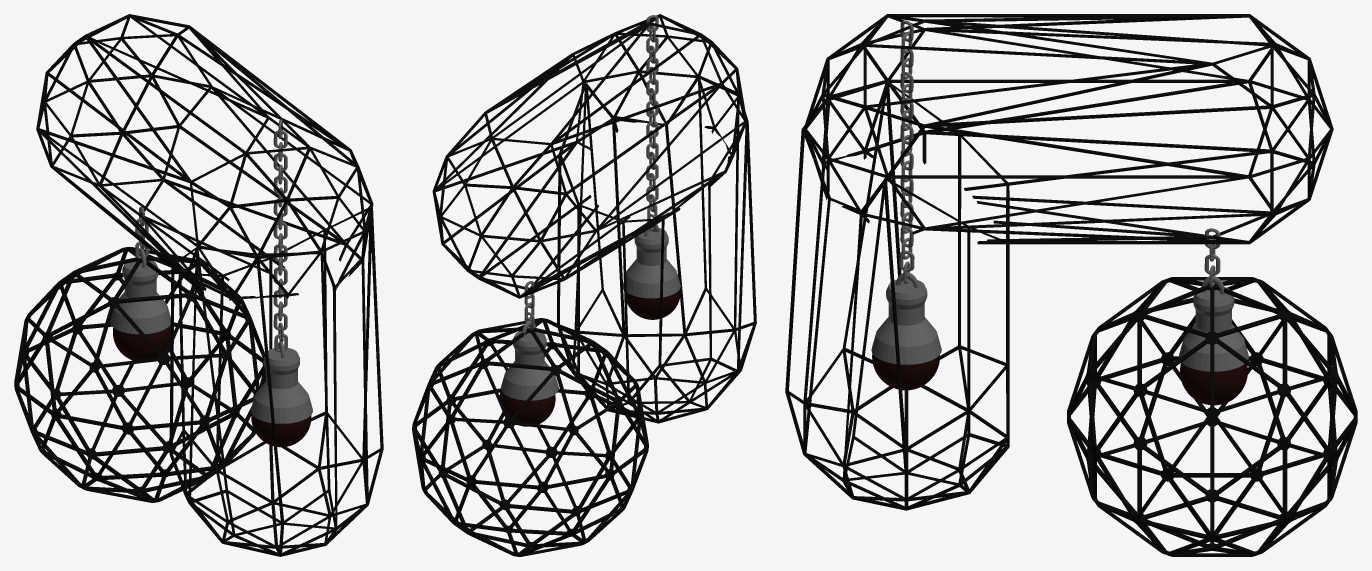
The model's file is lamp shed.obj.
3 views of the same model, side by side, from view 1: azimuth 30°, elevation 25°; view 2: azimuth 150°, elevation 25°; view 3: azimuth 270°, elevation 25° (orthographic). The views are drawn at different scales.
Parts seen in each view (by area): view 1: Icosphere.001, Icosphere, Icosphere.002, Cylinder.004, Cylinder.003, Torus.011, Sphere.003, Sphere.004; view 2: Icosphere, Icosphere.001, Icosphere.002, Cylinder.004, Cylinder.003, Torus.011, Sphere.003, Sphere.004; view 3: Icosphere.001, Icosphere, Icosphere.002, Cylinder.004, Cylinder.003, Torus.011, Sphere.003, Sphere.004.
Boxes of the visible parts, bbox=[...] form: Icosphere.001: bbox=[36, 14, 373, 301]; Icosphere: bbox=[14, 246, 265, 502]; Icosphere.002: bbox=[169, 207, 383, 556]; Cylinder.004: bbox=[250, 348, 312, 423]; Cylinder.003: bbox=[109, 260, 170, 334]; Torus.011: bbox=[273, 119, 287, 330]; Sphere.003: bbox=[113, 325, 170, 360]; Sphere.004: bbox=[251, 413, 311, 447]; Icosphere: bbox=[412, 318, 648, 556]; Icosphere.001: bbox=[432, 14, 746, 298]; Icosphere.002: bbox=[557, 76, 756, 423]; Cylinder.004: bbox=[622, 228, 680, 298]; Cylinder.003: bbox=[501, 331, 558, 400]; Torus.011: bbox=[646, 15, 658, 212]; Sphere.003: bbox=[499, 390, 555, 426]; Sphere.004: bbox=[627, 288, 680, 319]; Icosphere.001: bbox=[803, 14, 1333, 244]; Icosphere: bbox=[1067, 277, 1357, 556]; Icosphere.002: bbox=[785, 80, 1009, 510]; Cylinder.004: bbox=[871, 280, 941, 364]; Cylinder.003: bbox=[1178, 287, 1248, 371]; Torus.011: bbox=[900, 20, 913, 259]; Sphere.003: bbox=[1180, 362, 1247, 405]; Sphere.004: bbox=[872, 353, 939, 390].
Bounding box in the file's own units: 1.08 × 2.27 × 2.22.
